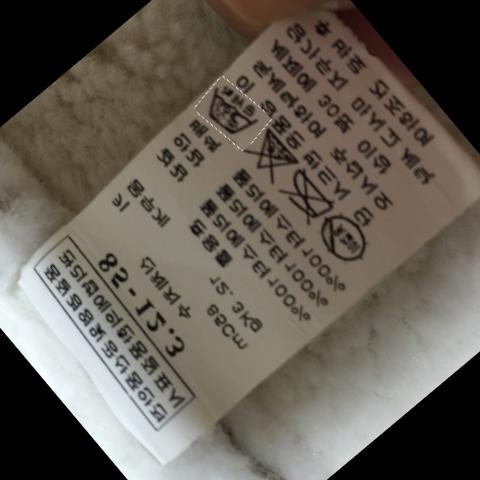DN_bleach: (242, 130, 297, 174)
DN_iron: (280, 171, 334, 223)
hand_wash: (199, 82, 261, 137)
line_dry_in_shade: (314, 216, 368, 260)
